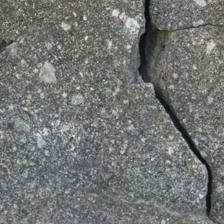Crack: (0, 43, 185, 53), (54, 104, 163, 120)
